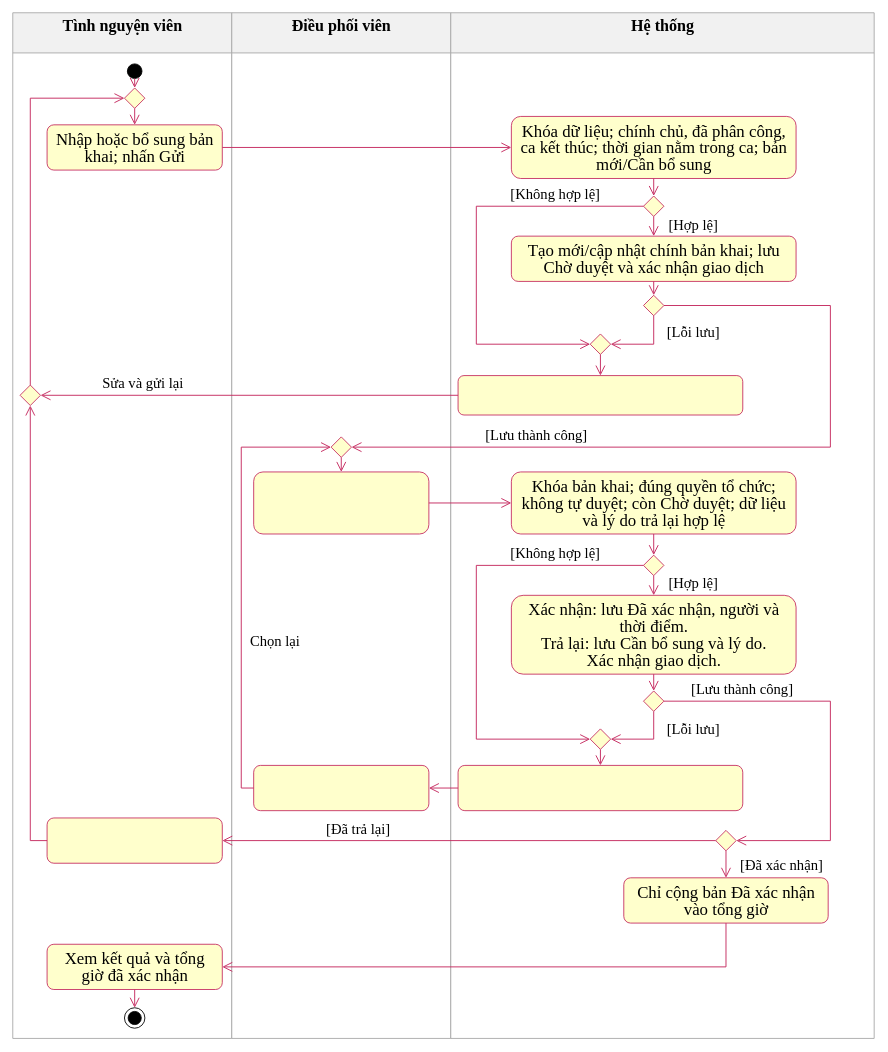
This 888x1052 diagram has some shape labels left out. Each missing label, with the centre of its shape:
Hoàn tác; giữ dữ liệu cũ và báo lý do: [600,395]
Hoàn tác; giữ quyết định cũ và báo lý do: [600,788]
Mở bản Chờ duyệt; chọn Xác nhận hoặc Trả lại và nhập lý do: [341,502]
Xem lý do và chọn lại quyết định: [341,788]
Đọc lý do; sửa chính bản khai rồi gửi lại: [134,840]
